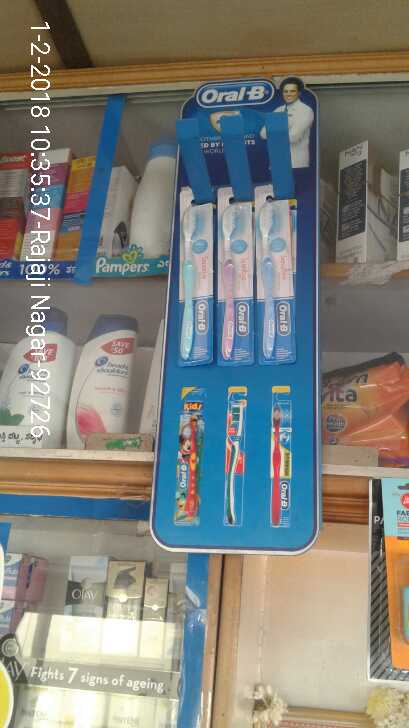beauty: (3, 299, 74, 446), (65, 299, 133, 448)
pharmacy: (214, 189, 249, 366), (173, 200, 207, 369), (261, 187, 290, 361)
